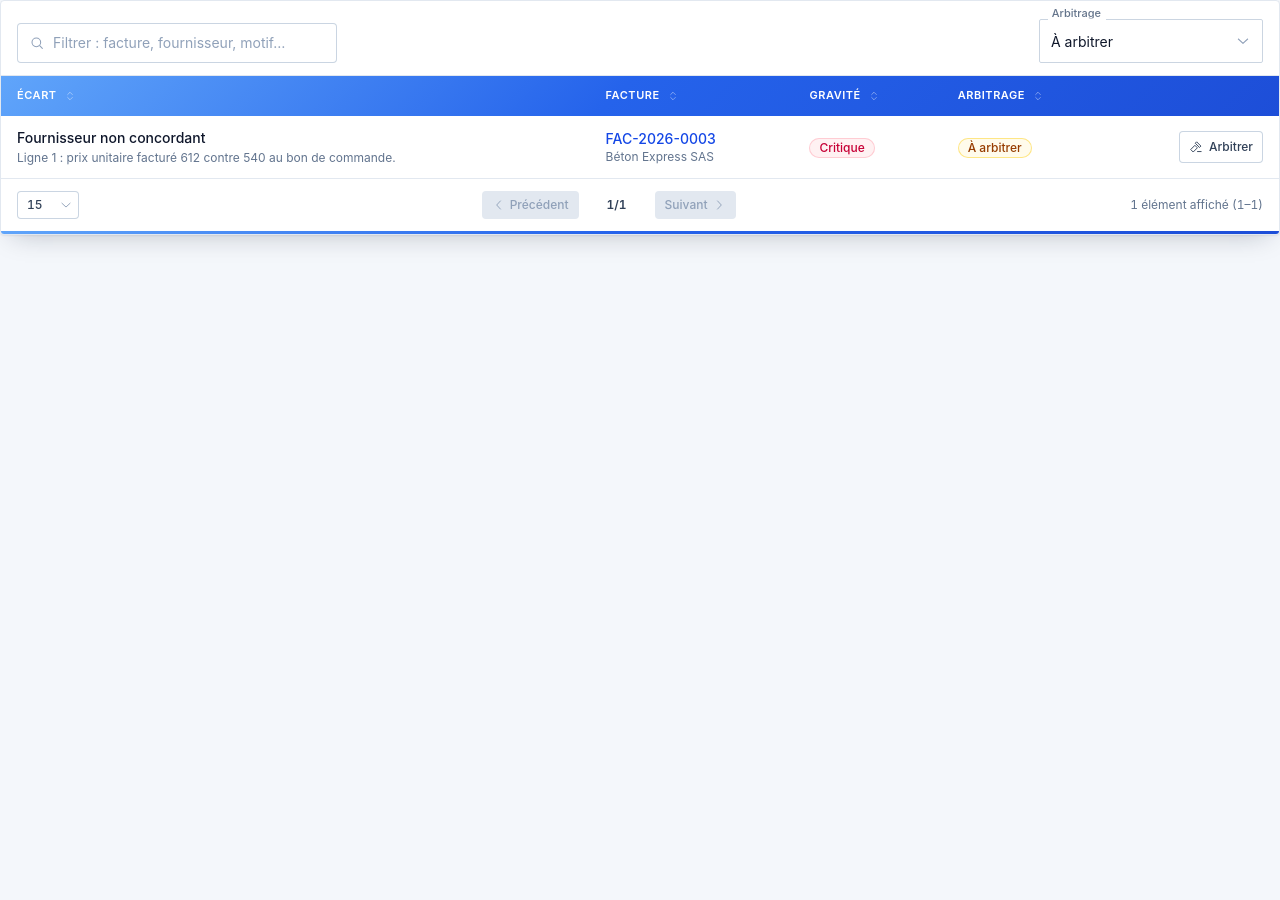
it: ExceptionList › avertit qu'un écart non dérogeable ne débloquera aucun paiement
The width and height of the screenshot is (1280, 900).
Click the button "Arbitrer".
click(1221, 147)  # box [1179, 131, 1263, 163]
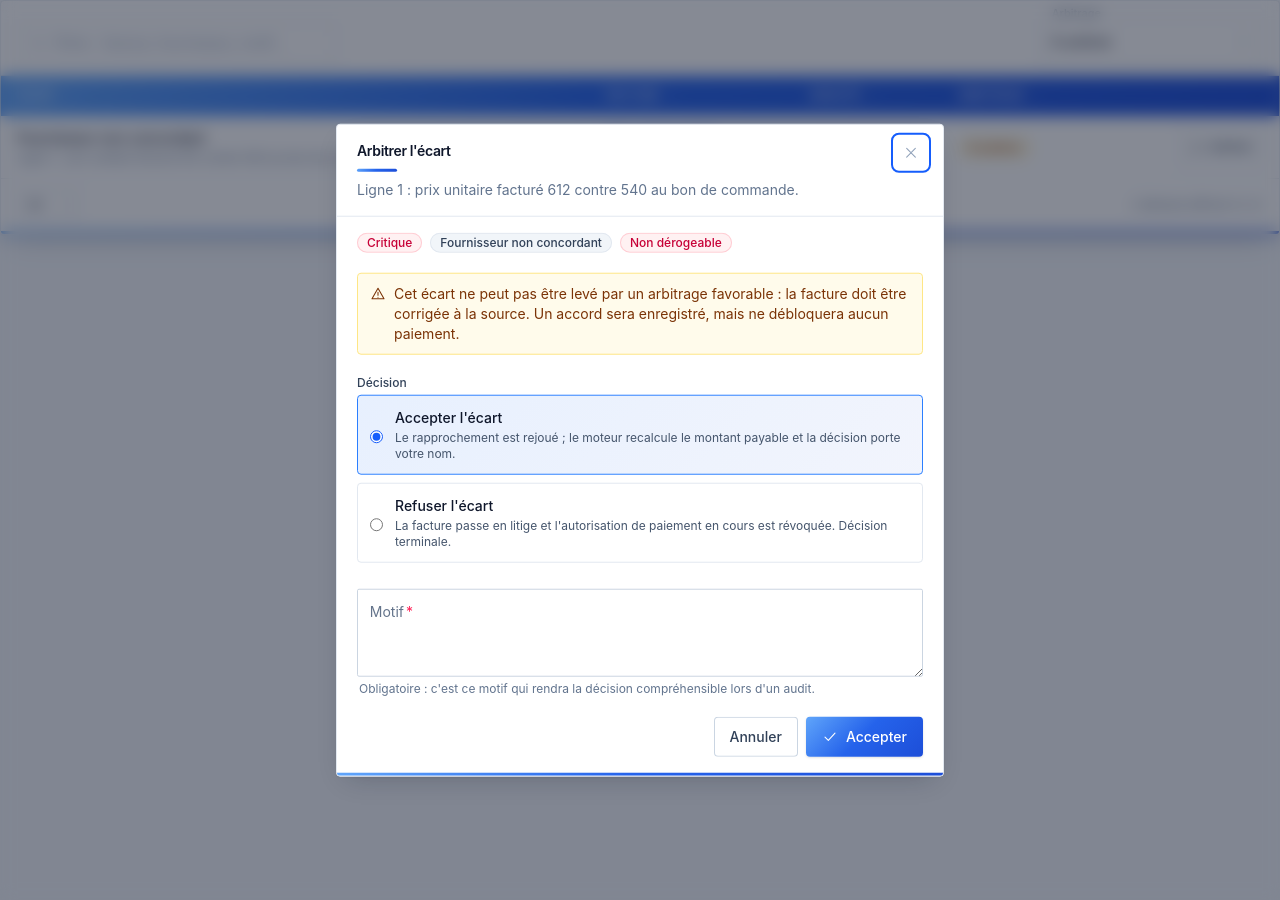
Now the text "Non dérogeable" is shown, box [620, 233, 732, 253]
Now the text "ne débloquera aucun paiement" is shown, box [394, 285, 906, 342]
